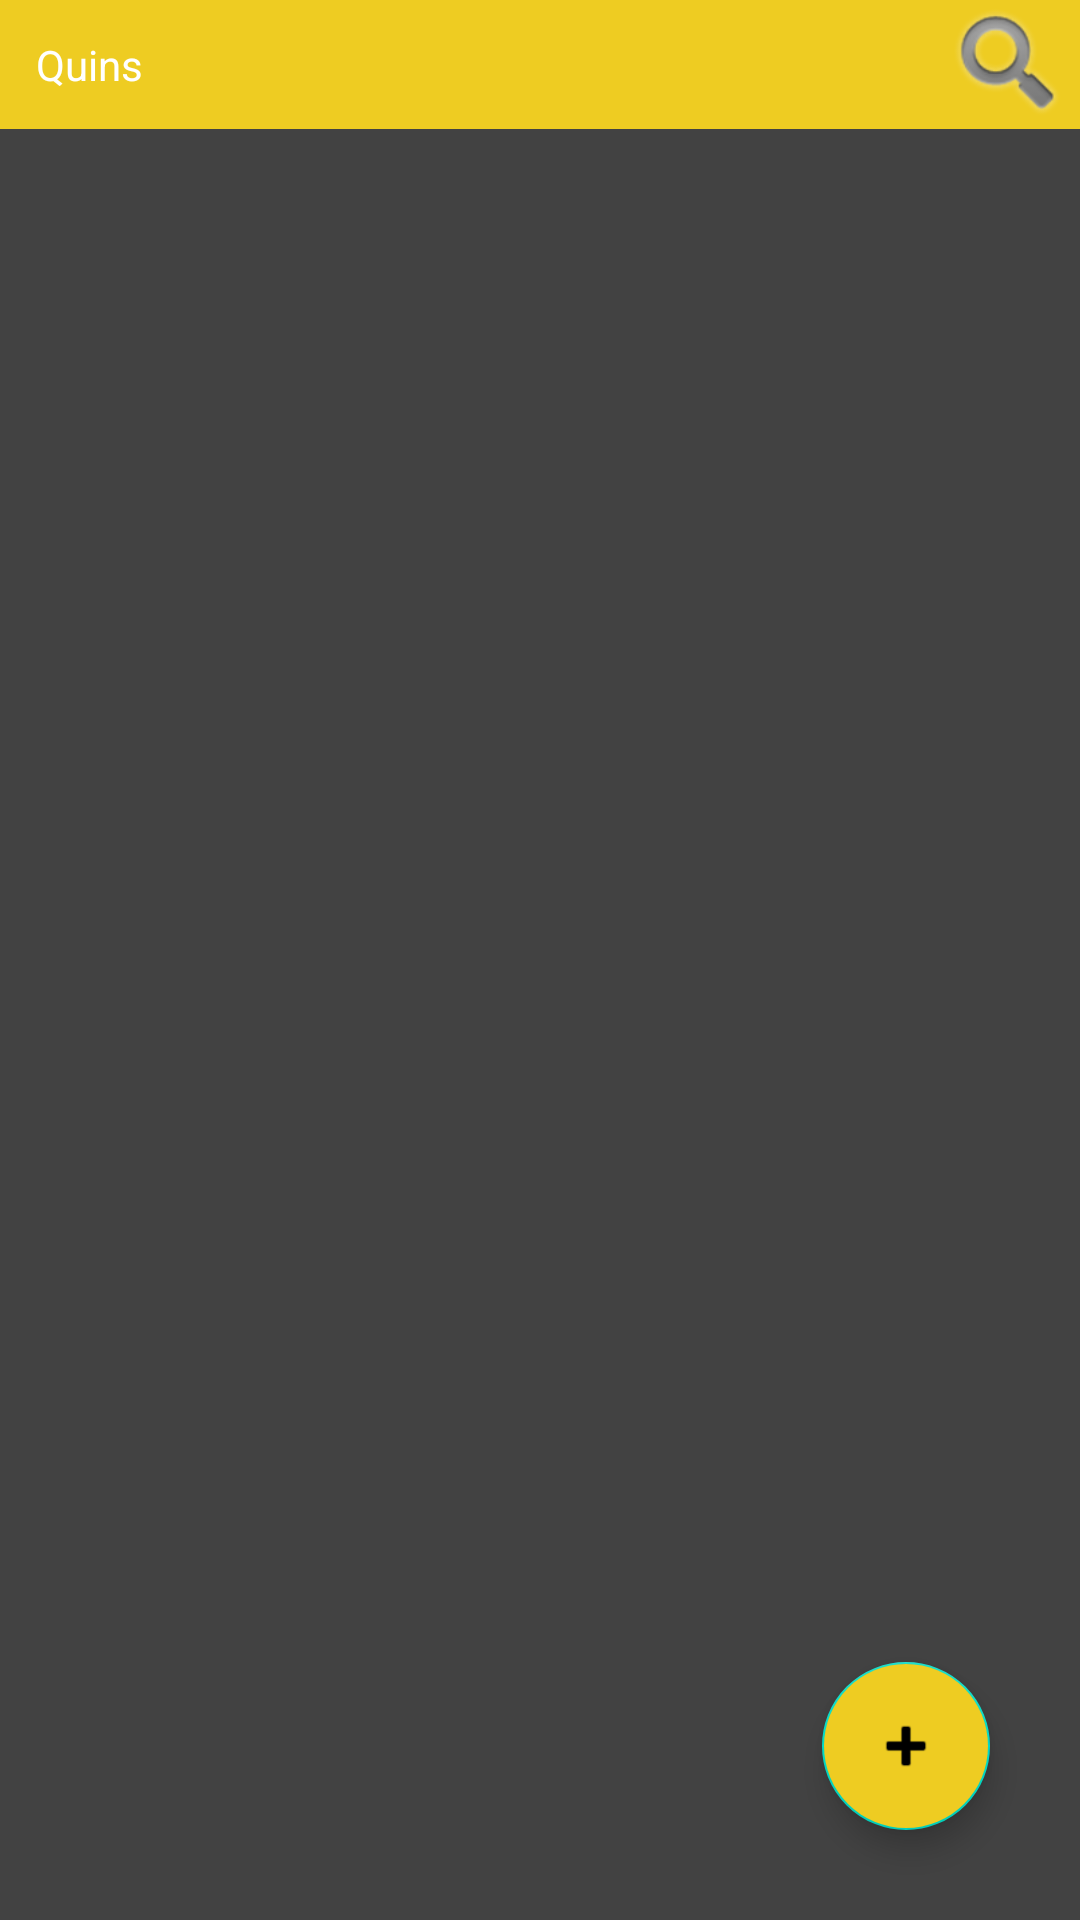

Where icons sit on this 1080 x 1920 app screen, as bbox(x1, y1, x2, y2):
add: bbox(822, 1662, 990, 1830)
search category: bbox(958, 14, 1056, 111)
